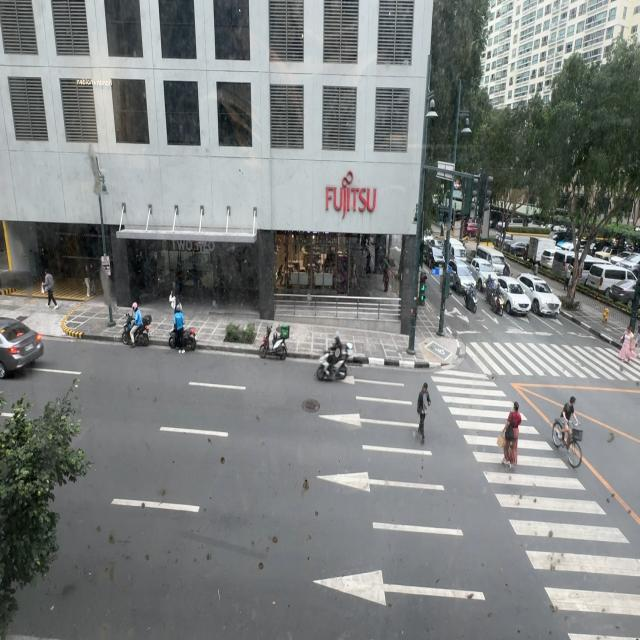crossing: (501, 400, 521, 468)
jaywalking: (417, 381, 430, 439)
pedestrain: (43, 270, 59, 310), (562, 262, 568, 289), (567, 267, 573, 290)
